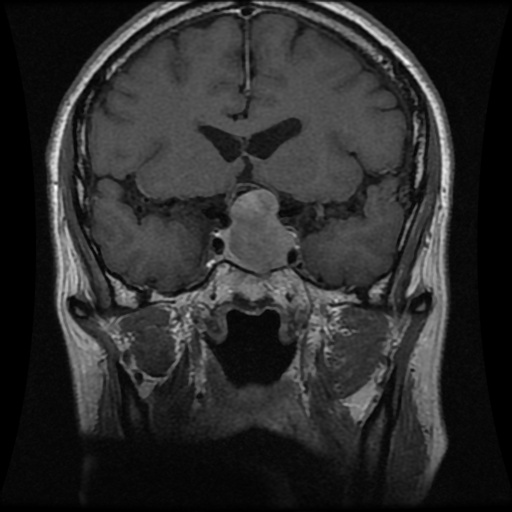pituitary: (226, 191, 291, 273)
